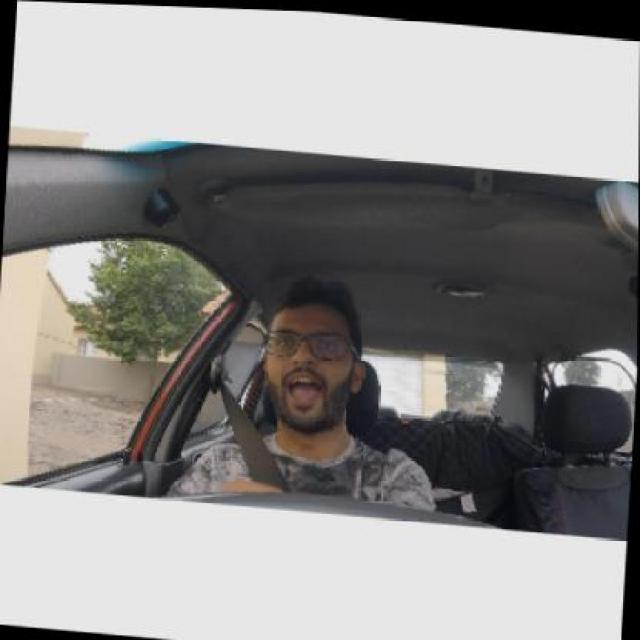person: (264, 305, 364, 427)
